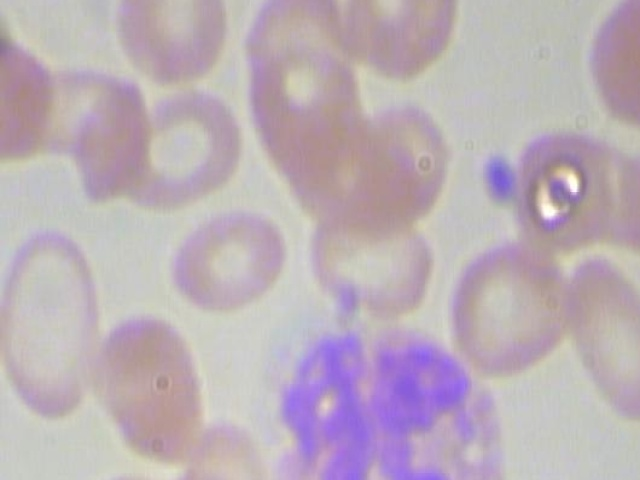Platelets: (473, 143, 523, 208)
RBC: (0, 224, 109, 433), (100, 306, 218, 469), (443, 228, 570, 379), (111, 88, 249, 212), (308, 196, 433, 322), (558, 249, 640, 435), (160, 207, 295, 312), (323, 0, 464, 85), (119, 0, 230, 99), (0, 31, 57, 174), (60, 472, 199, 480), (0, 221, 2, 426)
WBC: (246, 307, 517, 480)
